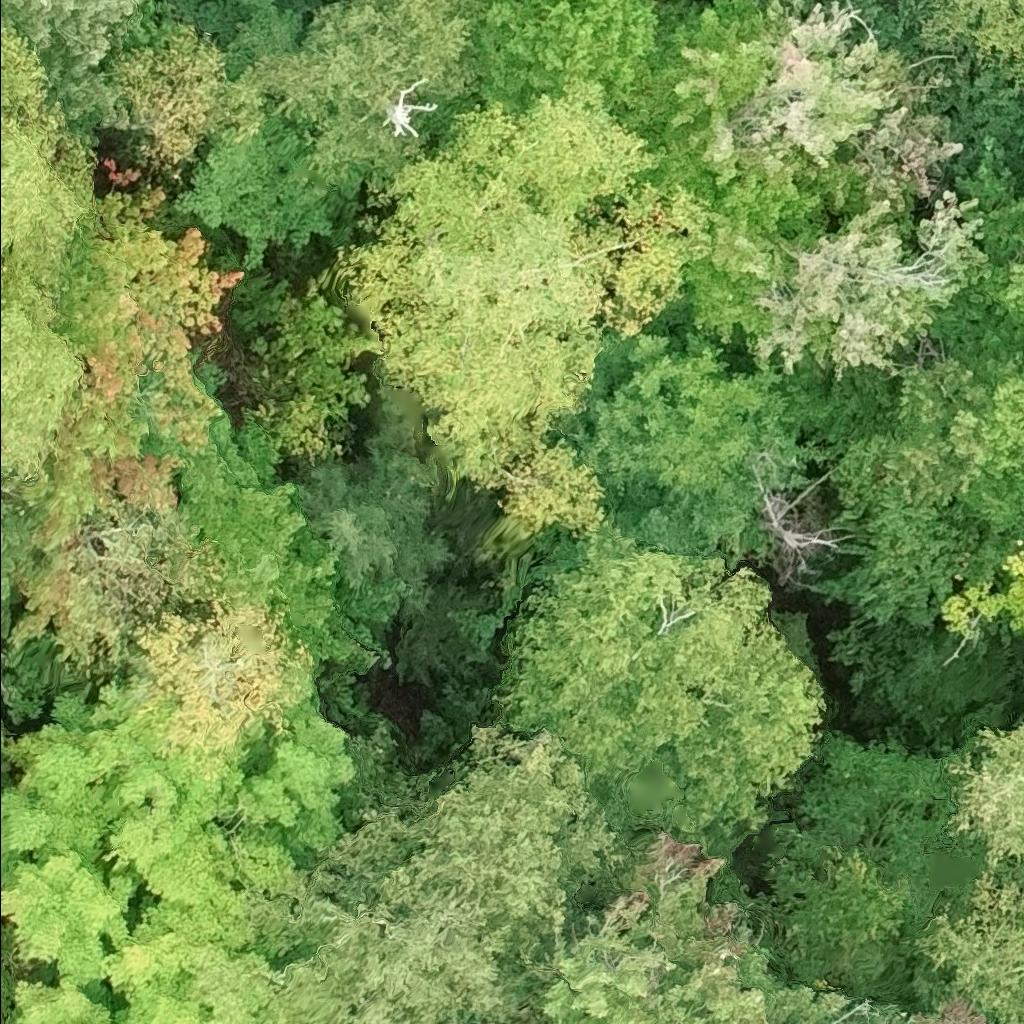crown: (320, 74, 712, 541), (0, 679, 361, 1023), (499, 506, 824, 853), (46, 156, 247, 550), (616, 0, 966, 220), (643, 176, 995, 386), (253, 0, 489, 194), (0, 16, 96, 483), (831, 332, 1023, 538), (904, 715, 1023, 1023), (820, 484, 981, 627), (473, 0, 667, 117), (931, 133, 1023, 359), (749, 469, 867, 592), (917, 0, 1023, 96), (939, 538, 1023, 633), (839, 0, 879, 12), (818, 0, 831, 14)
